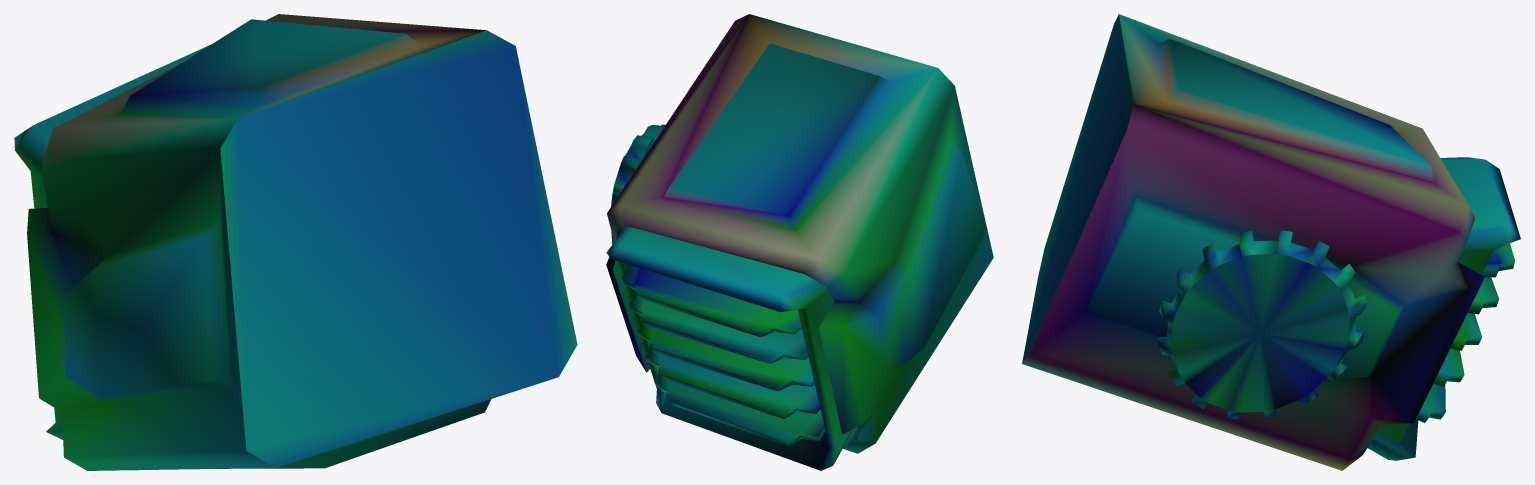
The model's file is ASE_Beowulf_Gib_EngL_B.gltf.
The picture shows the model from 3 angles, left to right: view 1: azimuth 30°, elevation 25°; view 2: azimuth 150°, elevation 25°; view 3: azimuth 270°, elevation 25°; orthographic projection. The views are drawn at different scales.
Parts seen in each view (by area): view 1: ASE_Beowulf_Gib_EngL_B; view 2: ASE_Beowulf_Gib_EngL_B; view 3: ASE_Beowulf_Gib_EngL_B.
Boxes of the visible parts, bbox=[...] form: ASE_Beowulf_Gib_EngL_B: bbox=[14, 14, 577, 470]; ASE_Beowulf_Gib_EngL_B: bbox=[606, 14, 993, 470]; ASE_Beowulf_Gib_EngL_B: bbox=[1022, 14, 1520, 470].
Bounding box in the file's own units: 0.5924 × 0.6516 × 0.7442.
